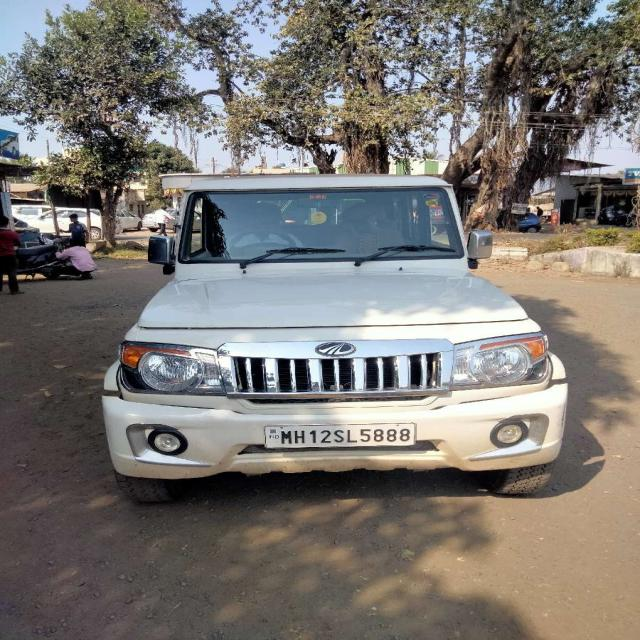light_vehicle: (102, 176, 568, 475)
